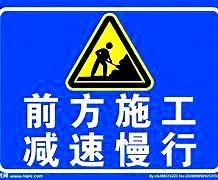sign: (2, 4, 216, 177)
